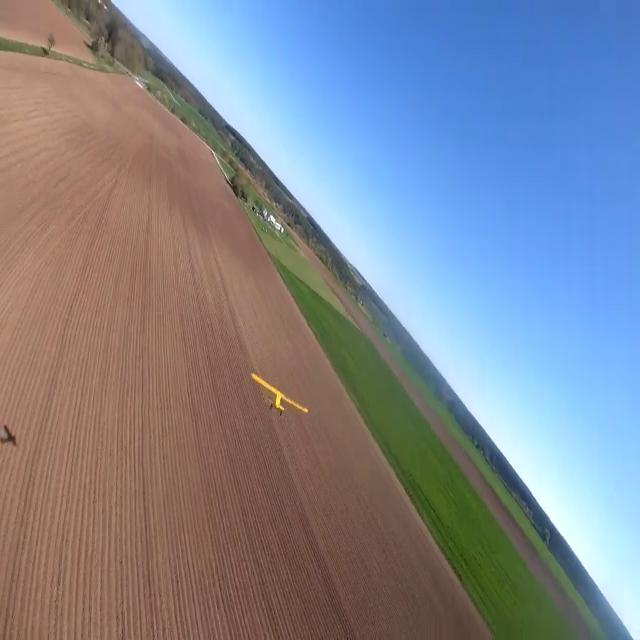iha: (250, 364, 310, 411)
